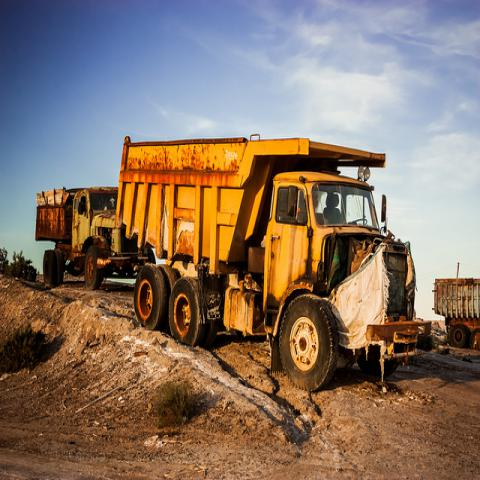truck: (33, 135, 434, 393), (433, 278, 479, 348)
